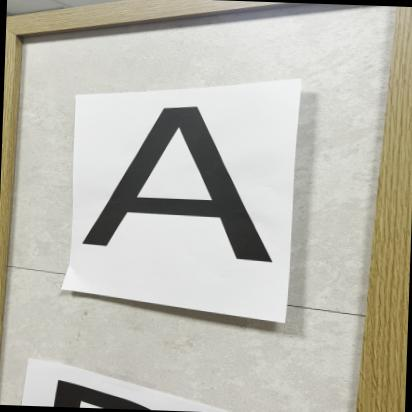seat: (74, 100, 296, 275)
